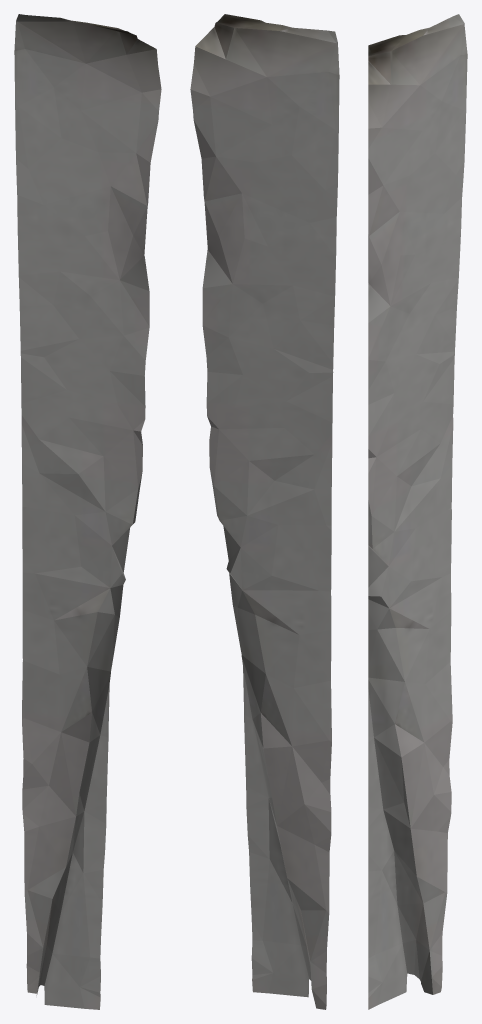
The picture shows the model from 3 angles, left to right: view 1: azimuth 30°, elevation 25°; view 2: azimuth 210°, elevation 25°; view 3: azimuth 270°, elevation 25°; orthographic projection.
Size of the model in its own units: 0.1764 by 1.67 by 0.1539.
Materials: 1 (1 with a texture image).
